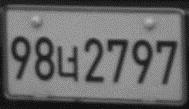2: (83, 37, 106, 83)
7: (155, 39, 178, 86), (106, 38, 129, 83)
8: (33, 36, 55, 81)
9: (131, 39, 153, 86), (9, 35, 30, 81)
너: (55, 44, 79, 82)
